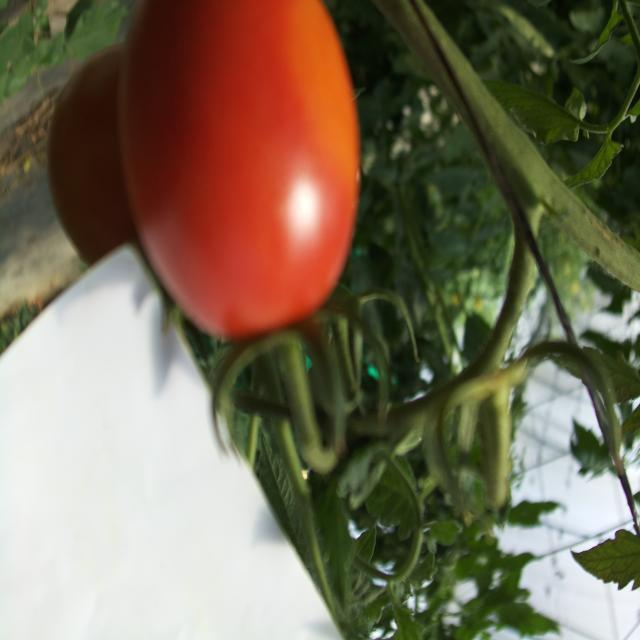kirmizi: (30, 0, 406, 343)
